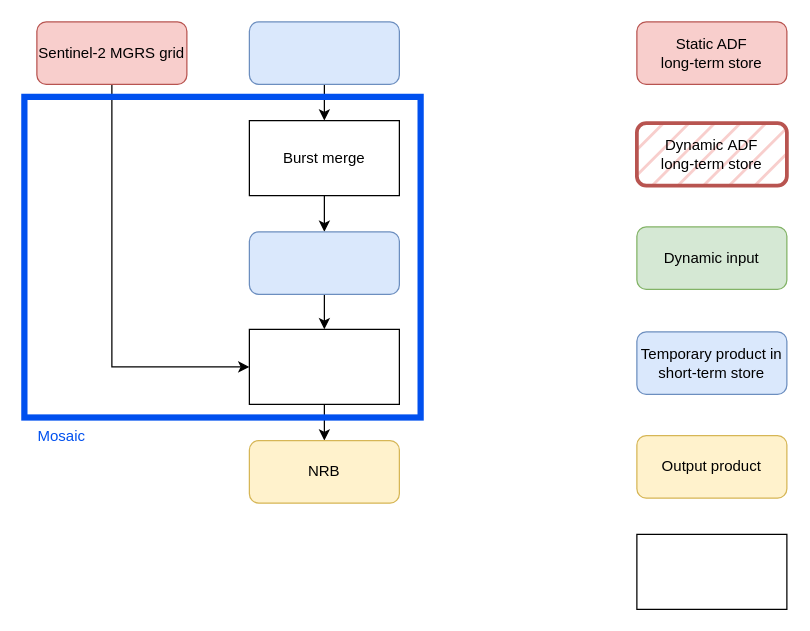
Image size: 810x631. Some labels were removed from this diagram. Here are the shapes that lost their labels. From the top down, the centre of each, then its label:
(x=323, y=52): NRBs within the same Data Take ID
(x=323, y=262): mosaicked NRB
(x=323, y=366): Tiling
(x=711, y=571): Processing block
